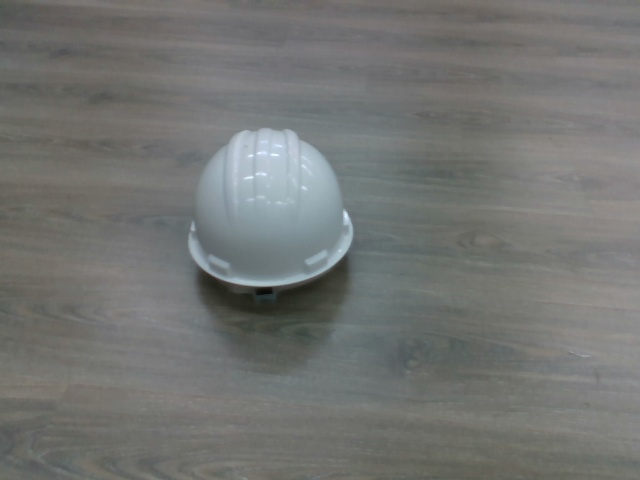helmet: (183, 121, 363, 304)
